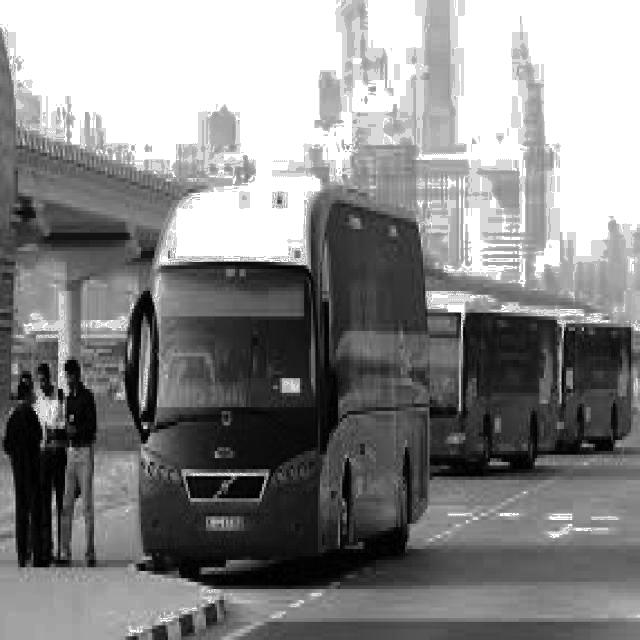Bus: (119, 153, 439, 584), (430, 267, 550, 469), (542, 298, 640, 466)
